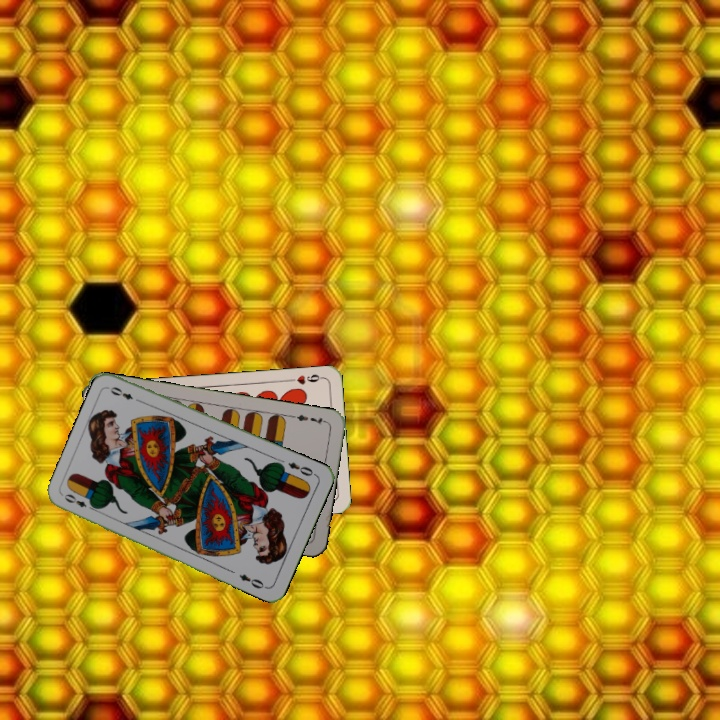E7: (289, 411, 329, 427)
EO: (60, 490, 98, 513), (284, 458, 319, 479)
H9: (285, 370, 326, 387)
